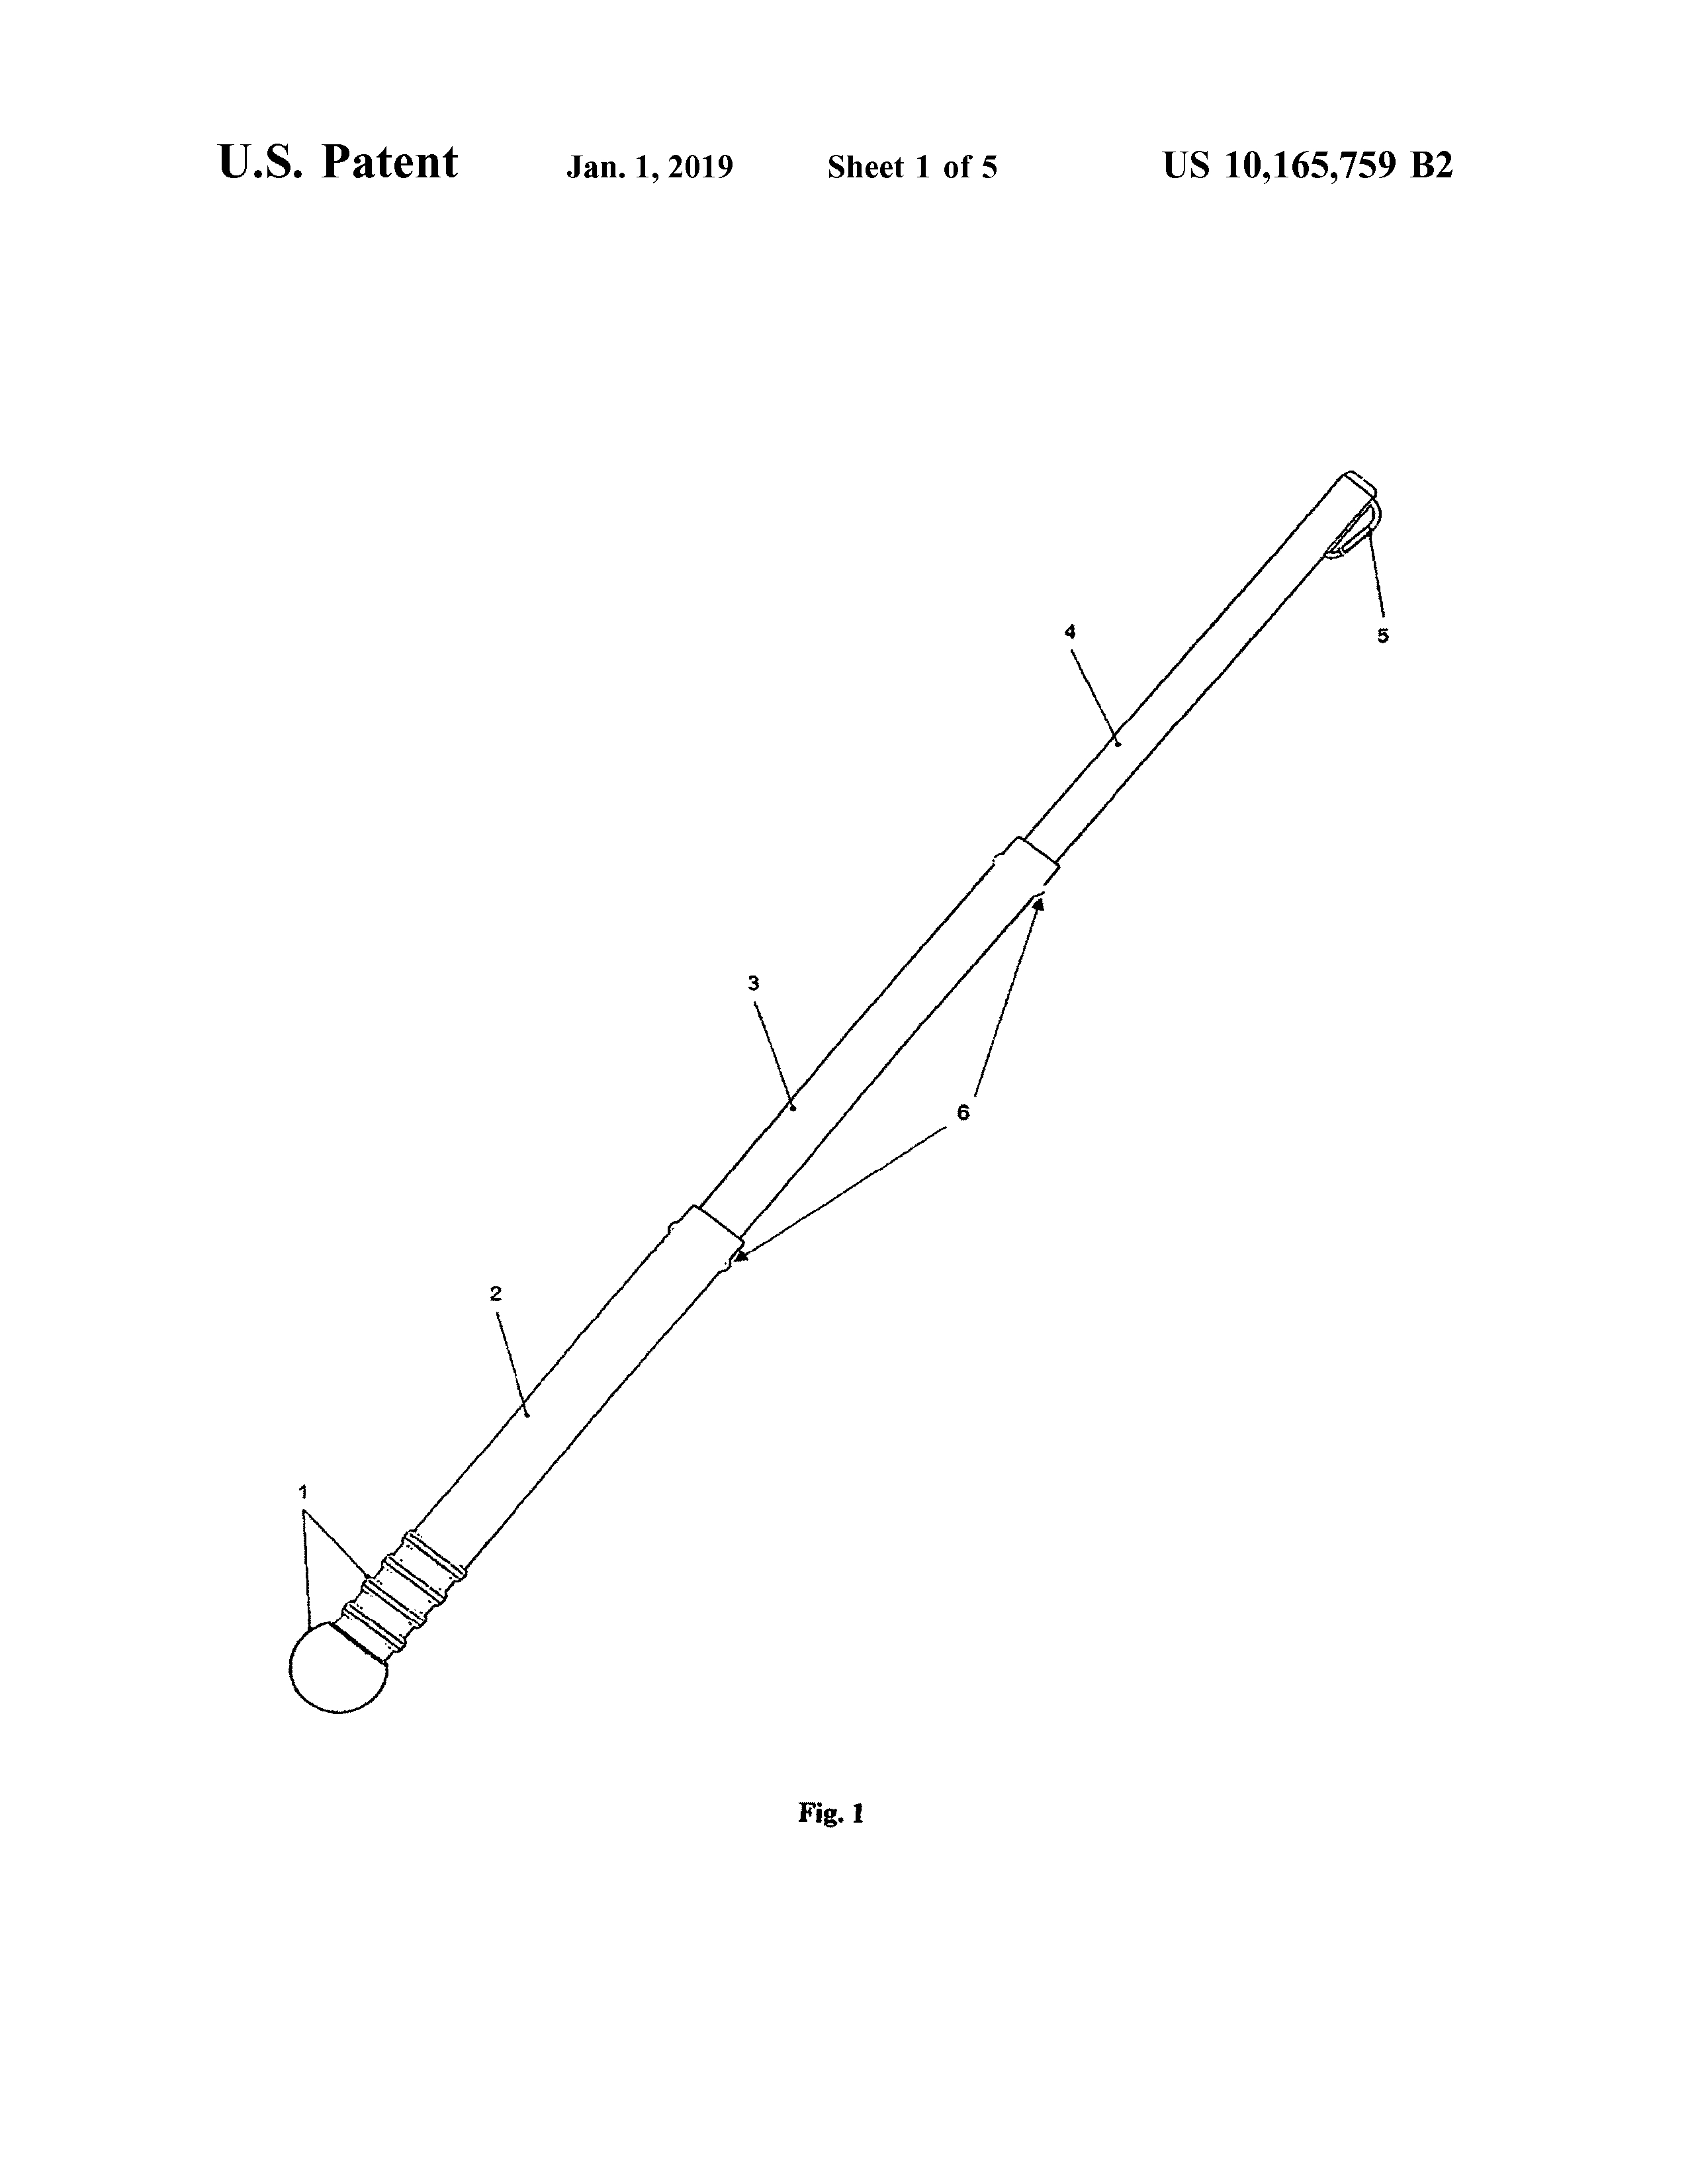patent image: (250, 408, 1430, 1908)
